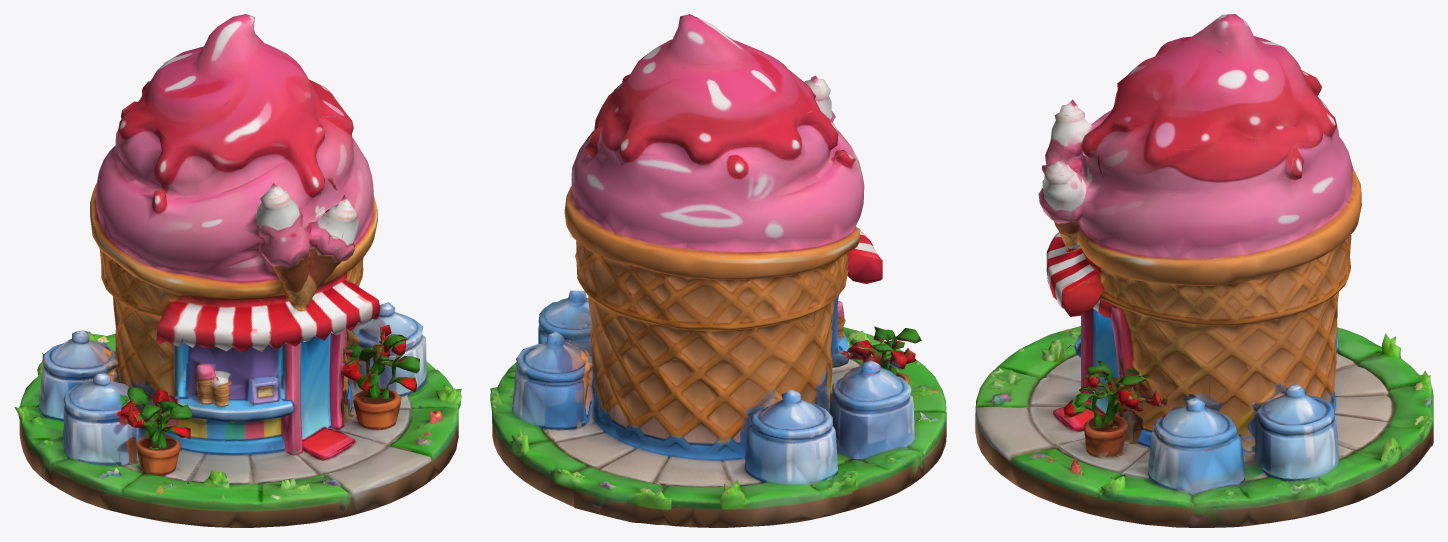
File: Meshy_AI_Ice_Cream_Dreamhouse_0204080402_texture.fbx
3 renders of one model, left to right at view 1: azimuth 30°, elevation 25°; view 2: azimuth 150°, elevation 25°; view 3: azimuth 270°, elevation 25°, orthographic. The views are drawn at different scales.
Visible parts, largest first — view 1: Mesh1.0; view 2: Mesh1.0; view 3: Mesh1.0.
Boxes of the visible parts, x1,y1,x2,y2 form: Mesh1.0: [14, 14, 461, 527]; Mesh1.0: [490, 14, 946, 527]; Mesh1.0: [975, 14, 1433, 527].
Bounding box in the file's own units: 198 × 201 × 198.
1 material, 1 textured.
